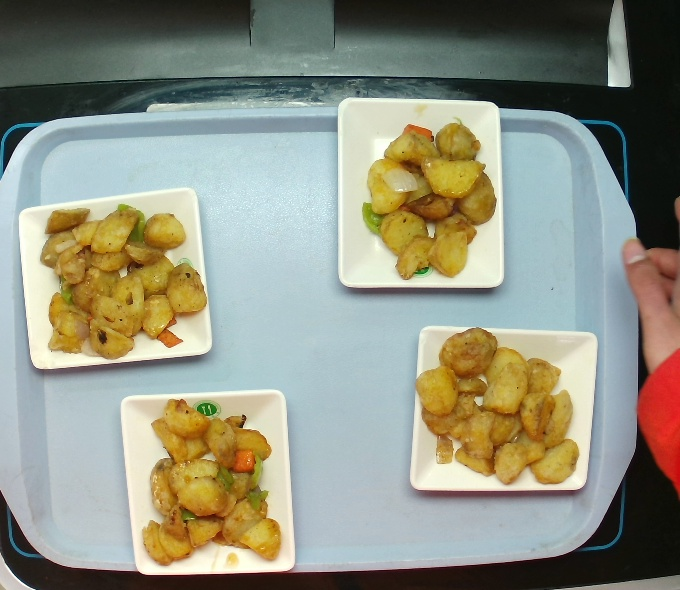wcq-TuDouZai: (410, 318, 579, 493), (36, 194, 195, 365), (138, 394, 286, 573), (360, 114, 497, 275)
